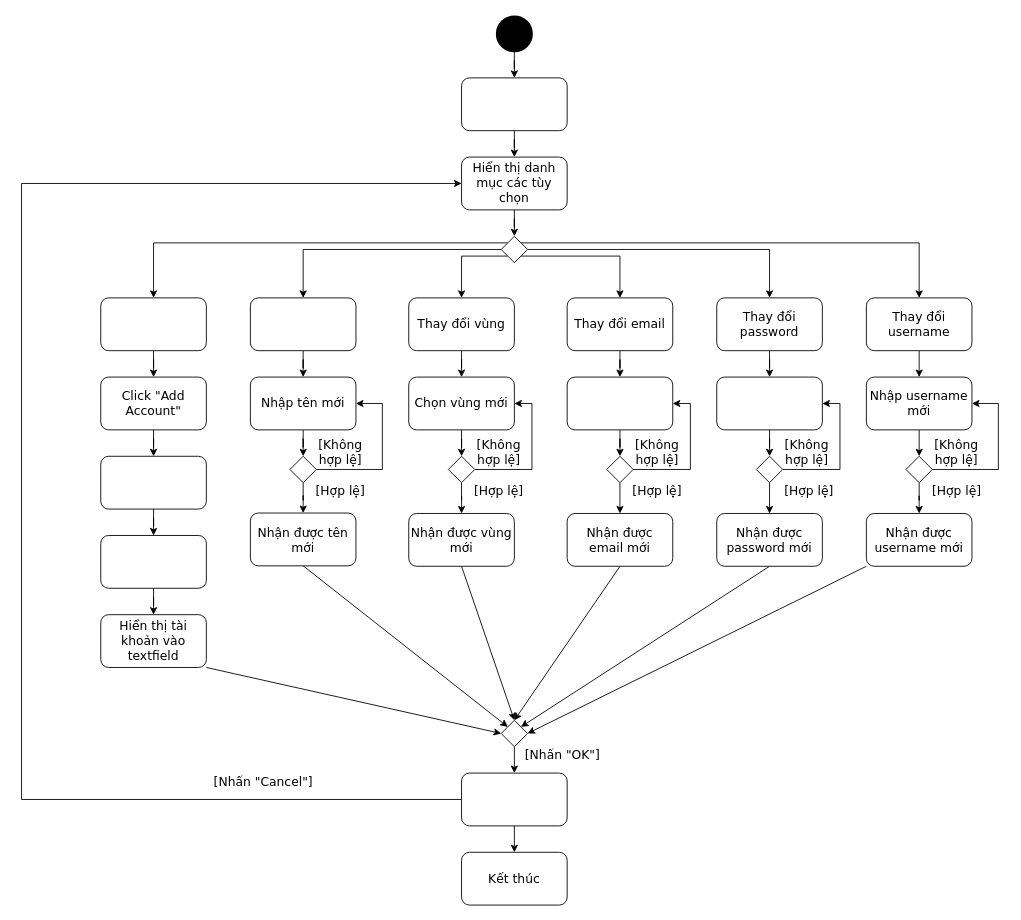
This 1021x920 diagram has some shape labels left out. The centre of each missing label's shape, as x and y in pixels:
"Chọn tài khoản muốn thêm" goes at (153,561).
"Hiện hộp thoại gợi ý" goes at (153,482).
"Lưu xuống database" goes at (514,799).
"Nhập email mới" goes at (619,403).
"Nhập password mới" goes at (769,403).
"Thay đổi Google account" goes at (153,324).
"Thay đổi tên" goes at (302,324).
"Truy cập Settings" goes at (514,104).
